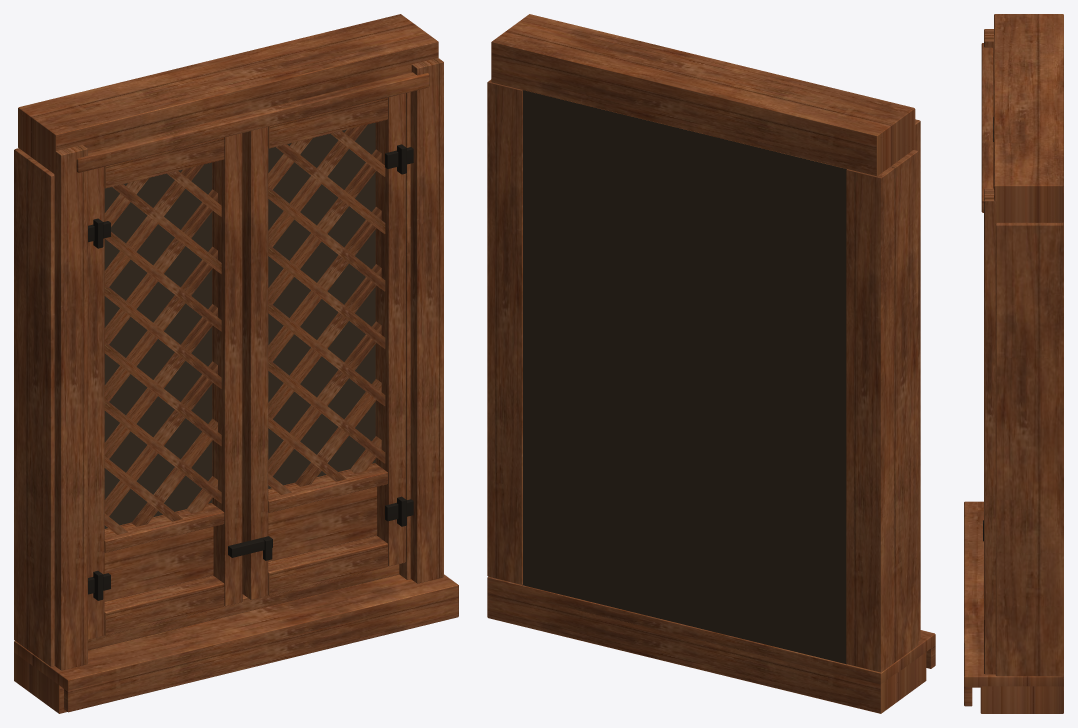
File: dyers-screen-sc-d.glb
The picture shows the model from 3 angles, left to right: view 1: azimuth 30°, elevation 25°; view 2: azimuth 150°, elevation 25°; view 3: azimuth 270°, elevation 25°; orthographic projection. The views are drawn at different scales.
Visible parts, largest first — view 1: dyers-screen-sc-d; view 2: dyers-screen-sc-d; view 3: dyers-screen-sc-d.
Boxes of the visible parts, x1,y1,x2,y2 form: dyers-screen-sc-d: (14,14,458,713); dyers-screen-sc-d: (487,14,935,713); dyers-screen-sc-d: (964,14,1063,713).
Bounding box in the file's own units: 1 × 1.4 × 0.24.
2 materials, 1 textured.
